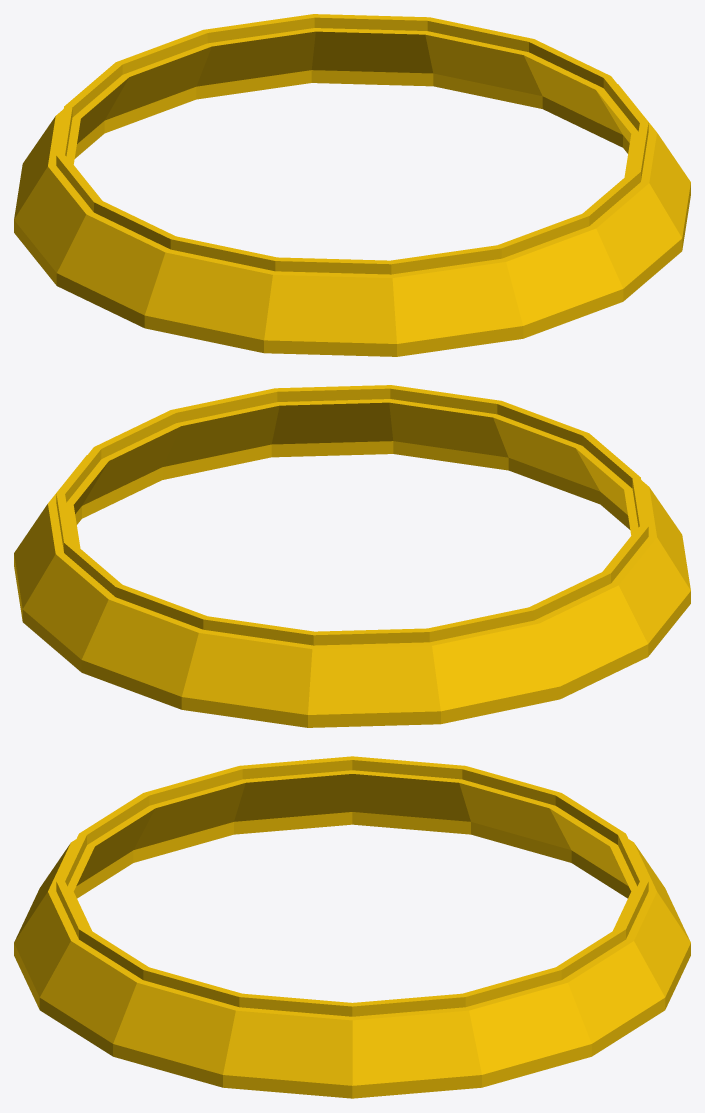
The model's file is launcher.obj.
3 renders of one model, top to bottom at view 1: azimuth 30°, elevation 25°; view 2: azimuth 150°, elevation 25°; view 3: azimuth 270°, elevation 25°, orthographic.
Parts seen in each view (by area): view 1: Launcher; view 2: Launcher; view 3: Launcher.
Boxes of the visible parts, left/top/right/bottom form: Launcher: left=14, top=14, right=690, bottom=356; Launcher: left=14, top=385, right=690, bottom=727; Launcher: left=14, top=756, right=690, bottom=1098.
Size of the model in its own units: 12 by 1.45 by 12.
1 material, 1 textured.
